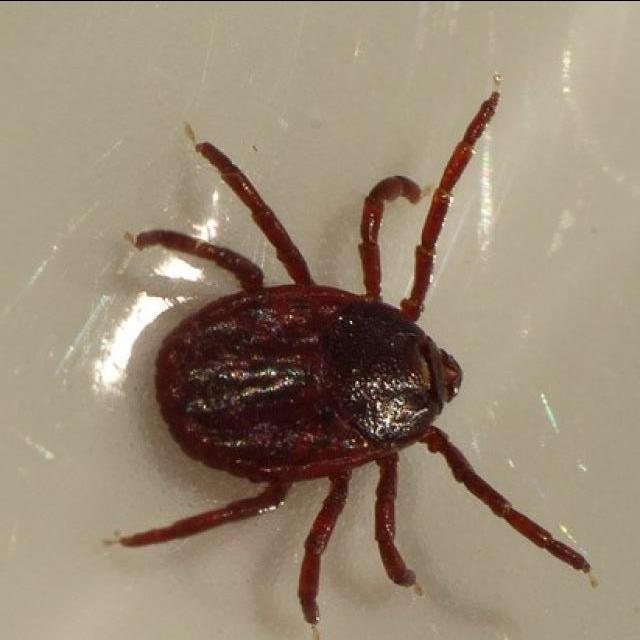Rhipicephalus Sanguineus-F: (115, 81, 590, 624)
